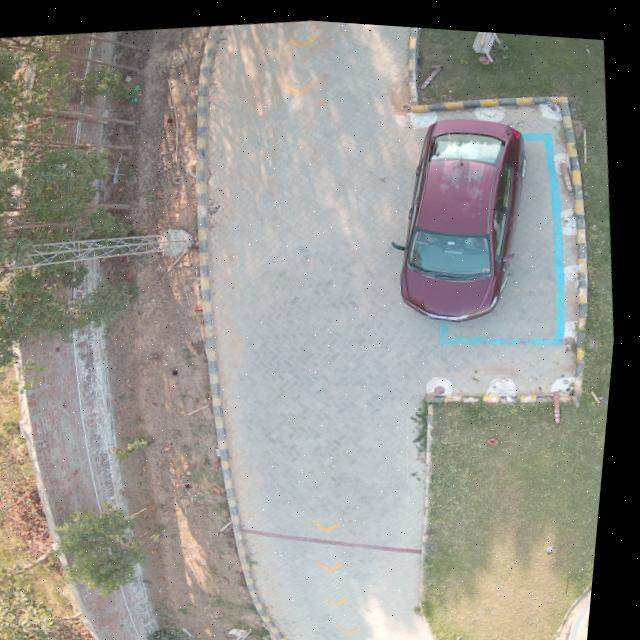car: (395, 110, 528, 314)
